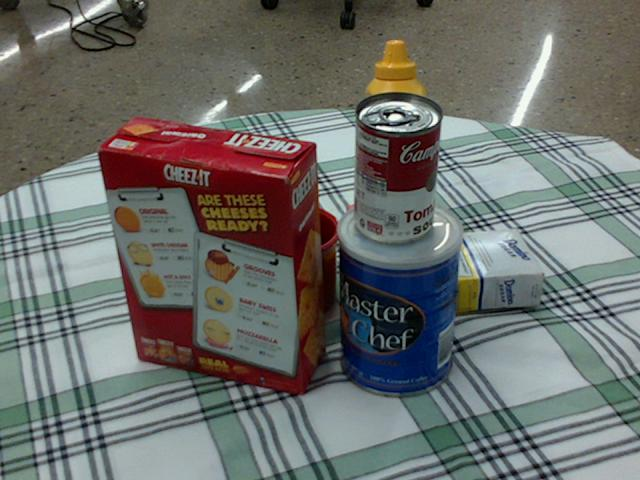cracker_box: (93, 119, 325, 392)
gelatin_box: (345, 189, 446, 257)
master_chef_can: (337, 196, 462, 396)
mug: (242, 205, 340, 321)
mustard_bottle: (364, 41, 424, 242)
potted_meat_can: (159, 220, 248, 308)
sugar_box: (349, 225, 544, 320)
tomato_soup_can: (351, 91, 440, 242)
tuna_fish_can: (164, 187, 253, 261)
